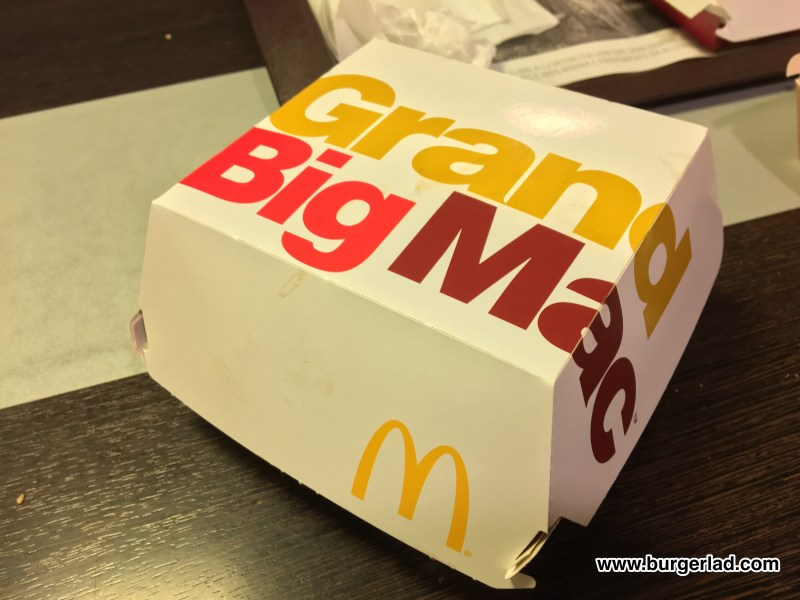mcdonalds: (344, 416, 479, 563)
